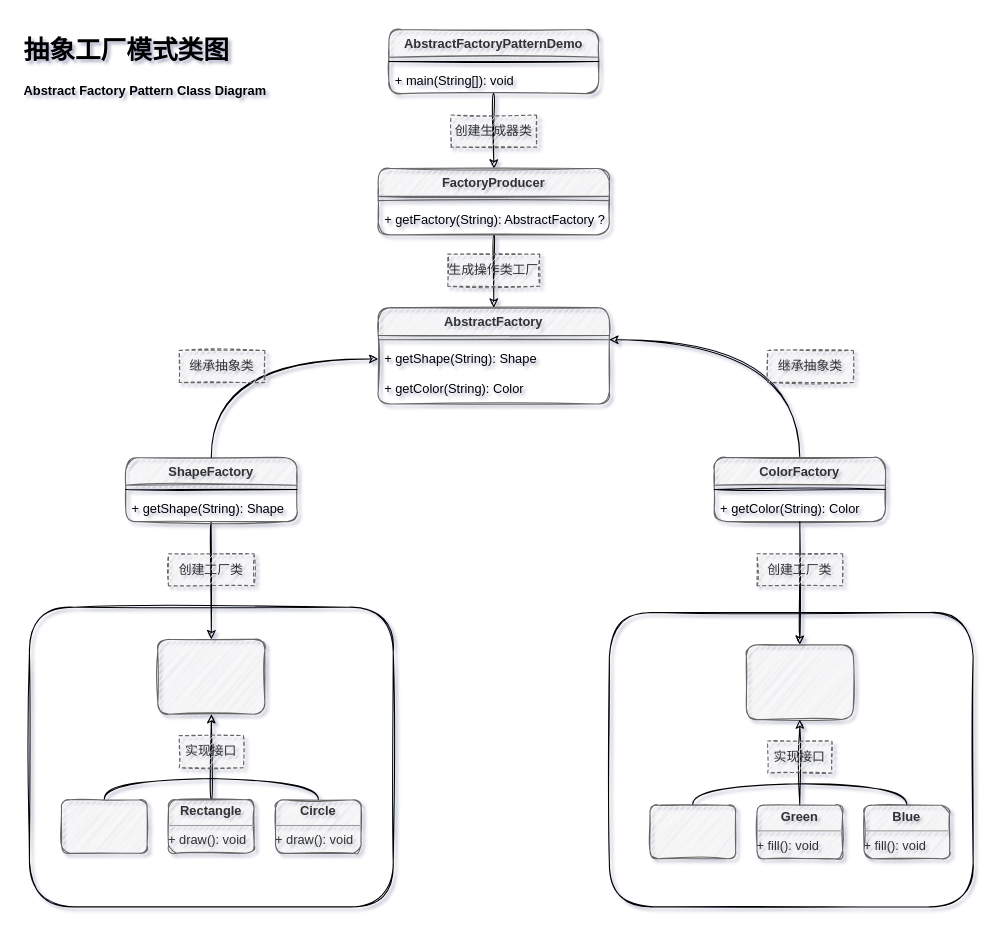
Image size: 998x932. Some labels were removed from this diagram. Each missing label, with the centre of its shape:
<<Interface>> Color + fill(): void: [799,682]
<<Interface>> Shape + draw(): void: [211,676]
Red + fill(): void: [692,831]
Square + draw(): void: [103,826]
